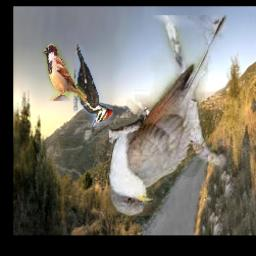Cuckoo: (110, 15, 227, 216)
Sparrow: (42, 44, 87, 102)
Woodpecker: (74, 39, 114, 128)
